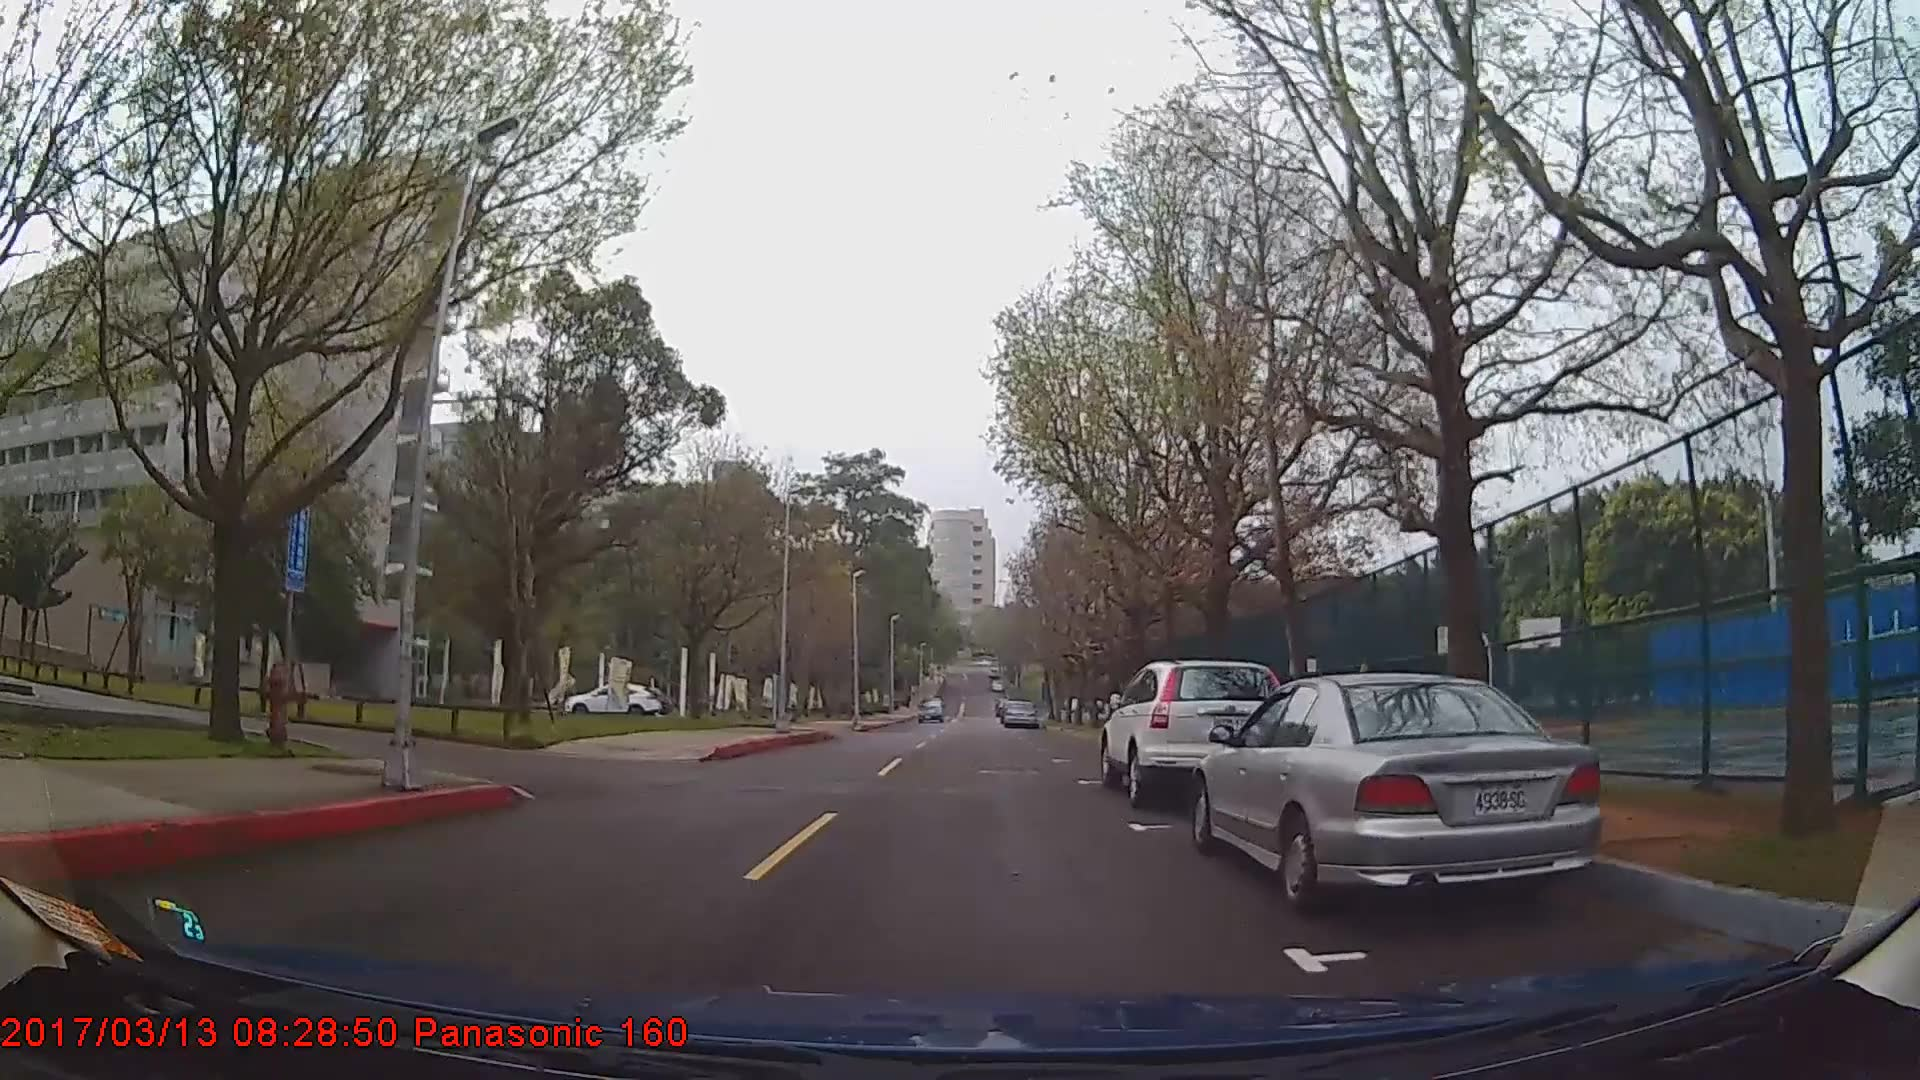vehicle: (1192, 673, 1605, 913), (1098, 661, 1292, 807), (567, 679, 665, 719), (1000, 698, 1039, 731), (916, 694, 943, 723)
